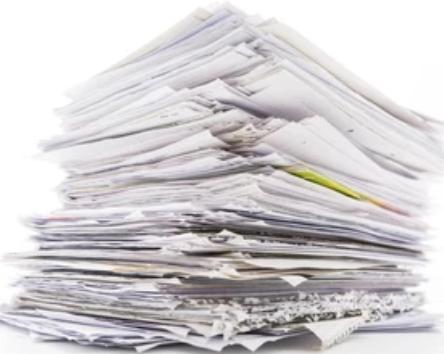Paper: (2, 0, 444, 354)
